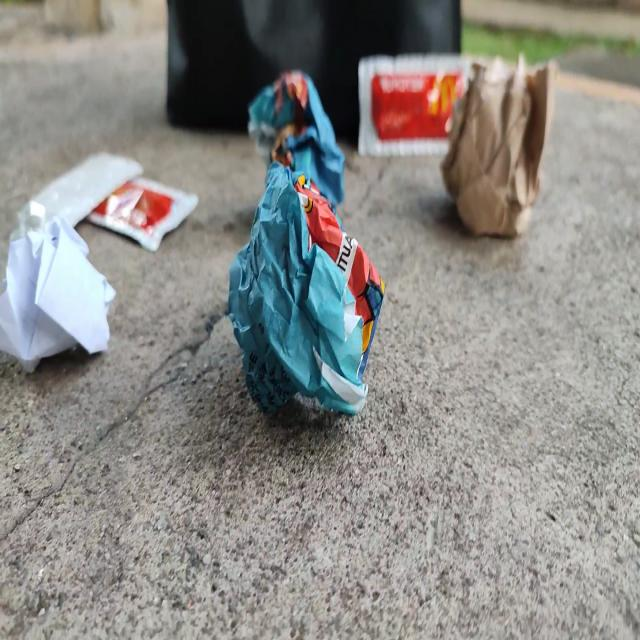paper: (216, 155, 391, 428), (439, 44, 573, 246), (0, 206, 114, 396), (241, 34, 345, 223)
